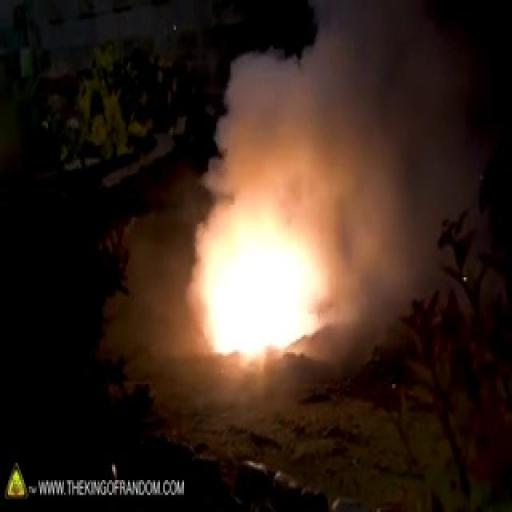smoke: (210, 167, 334, 358)
